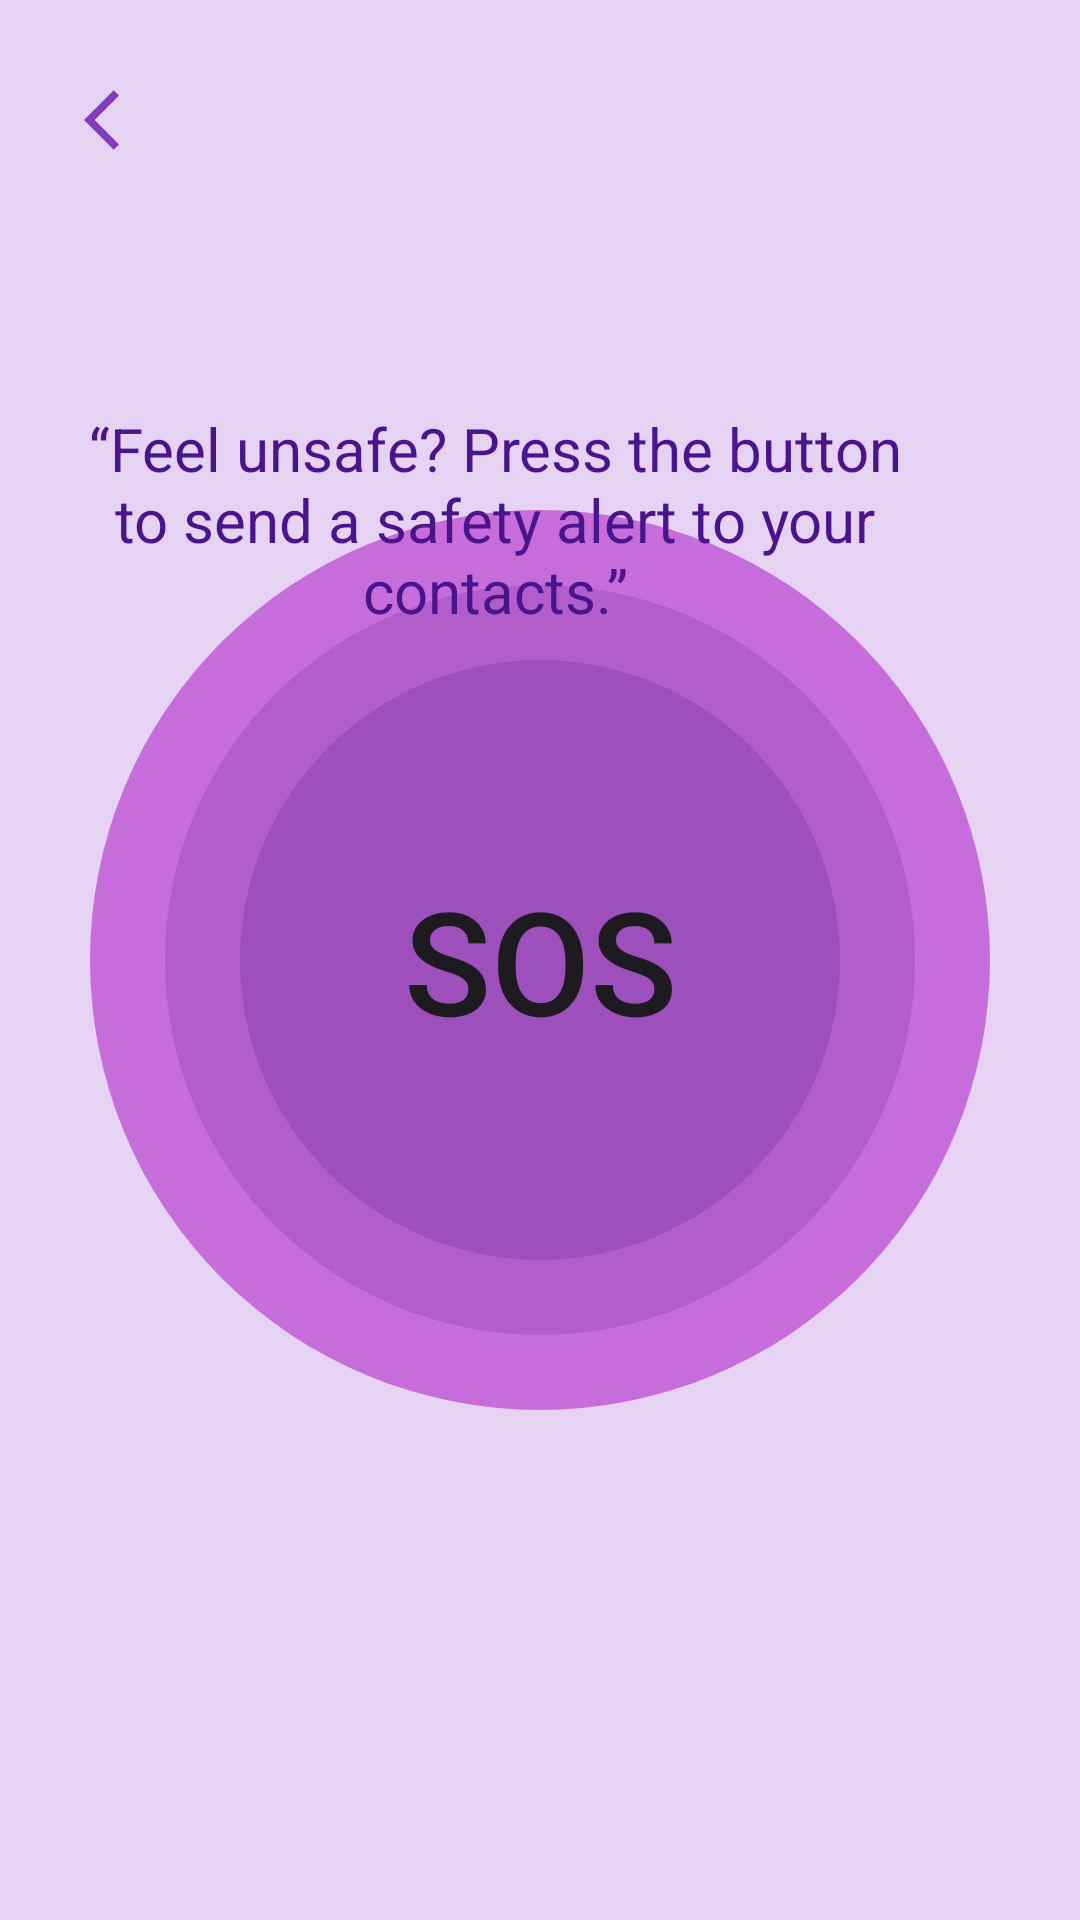

Screen size 1080 x 1920. Icon name, then its box in pixels as (x1, y1, x2, y2):
back to home page: (84, 90, 119, 150)
